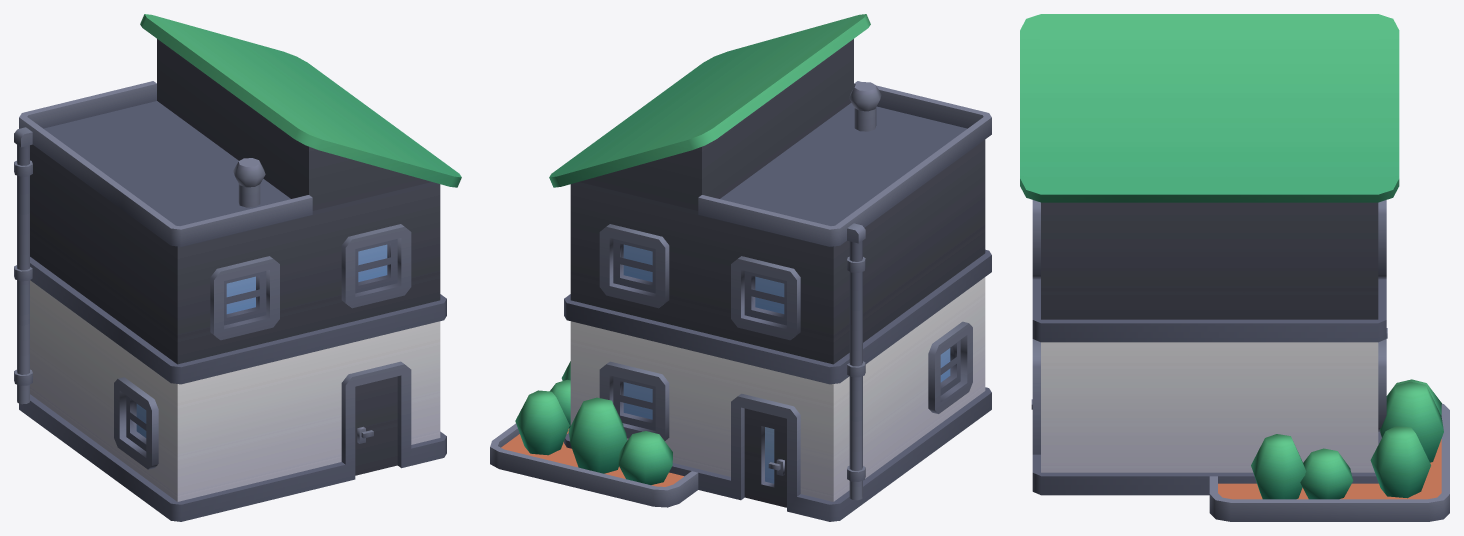
Rendered from sub-building-type-l.glb.
The picture shows the model from 3 angles, left to right: view 1: azimuth 30°, elevation 25°; view 2: azimuth 150°, elevation 25°; view 3: azimuth 270°, elevation 25°; orthographic projection. The views are drawn at different scales.
Parts seen in each view (by area): view 1: building-type-l; view 2: building-type-l; view 3: building-type-l.
Boxes of the visible parts, <box> form: building-type-l: <box>14,14,461,521</box>; building-type-l: <box>490,14,991,521</box>; building-type-l: <box>1020,14,1449,521</box>.
Bounding box in the file's own units: 10.34 × 10.49 × 10.2.
1 material, 1 textured.
